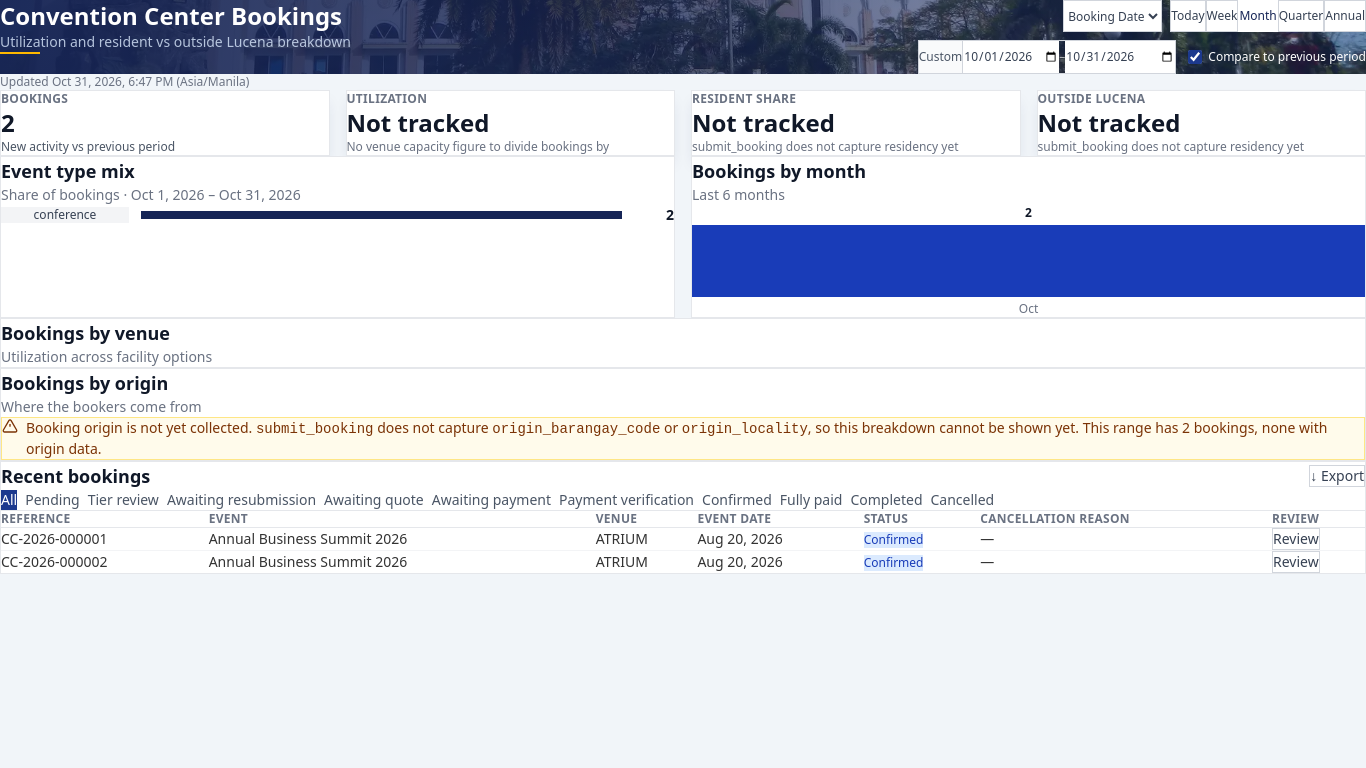
ConventionCenterPage › clicking a row's Review button opens the modal for that row's booking id
Expected: the text "CC-2026-000001" is shown, [1,528,209,550]
Expected: the text "CC-2026-000002" is shown, [1,550,209,573]
Click the button "Review" in the row of "CC-2026-000002".
click(1296, 562)  # box [1272,551,1320,573]
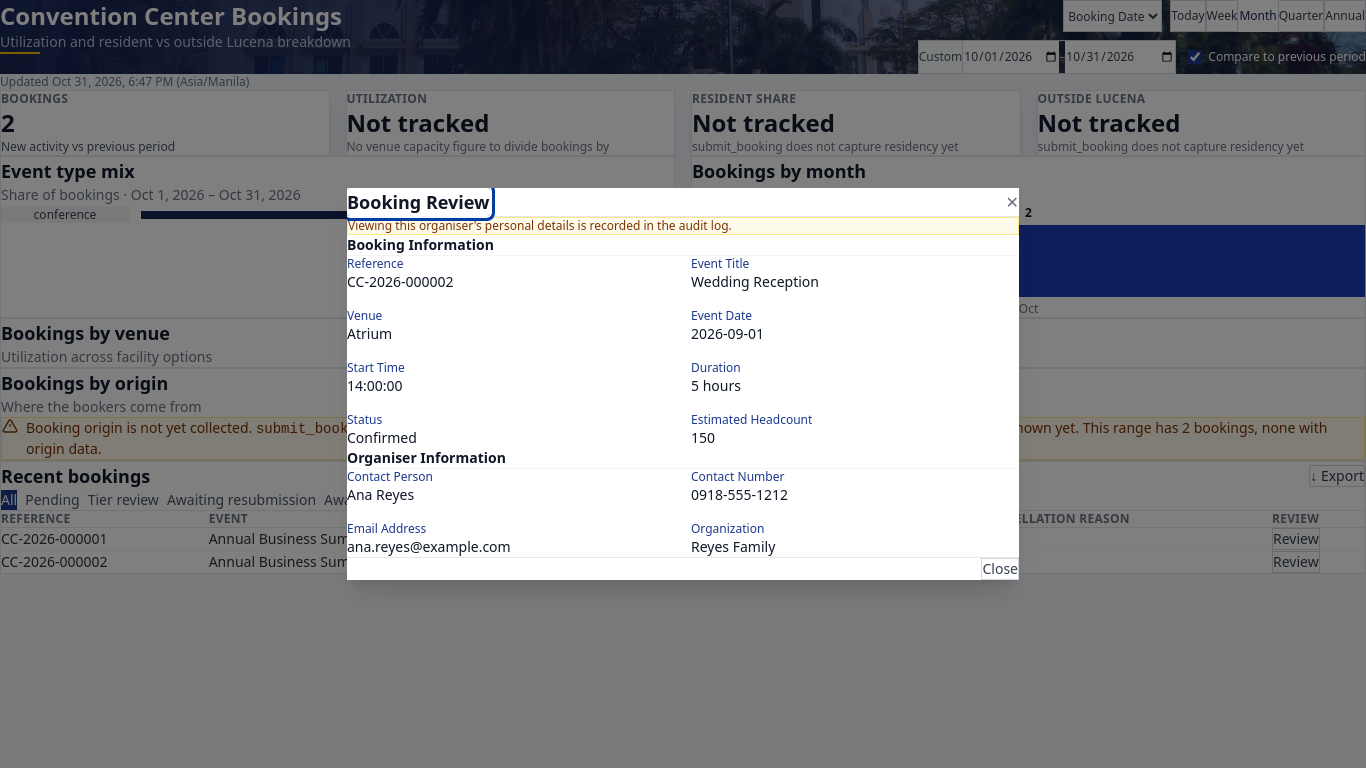
Expected: the text "ana.reyes@example.com" is shown, [347,537,511,556]
